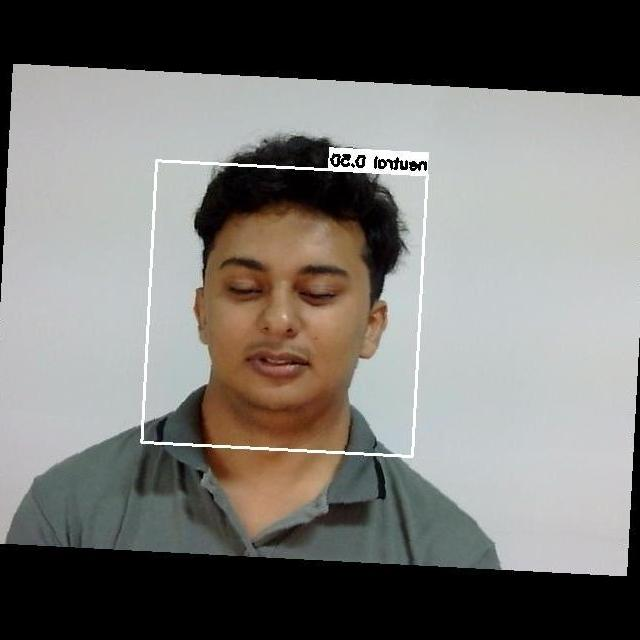Sad: (192, 238, 376, 397)
